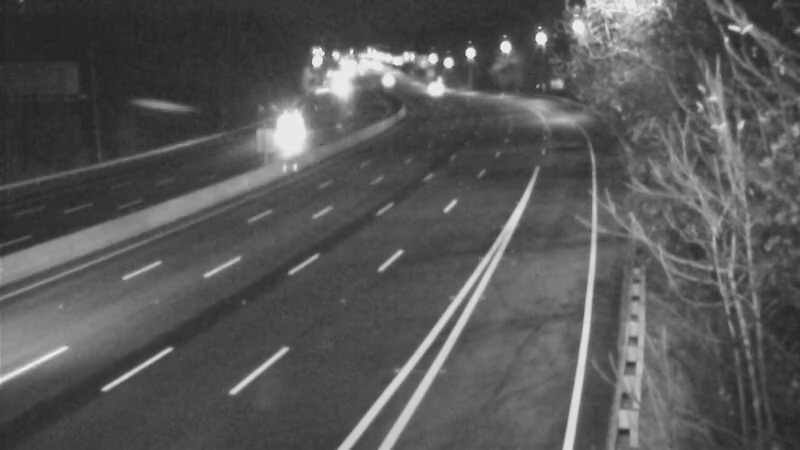vehicle: (412, 61, 462, 111), (273, 98, 323, 148)
